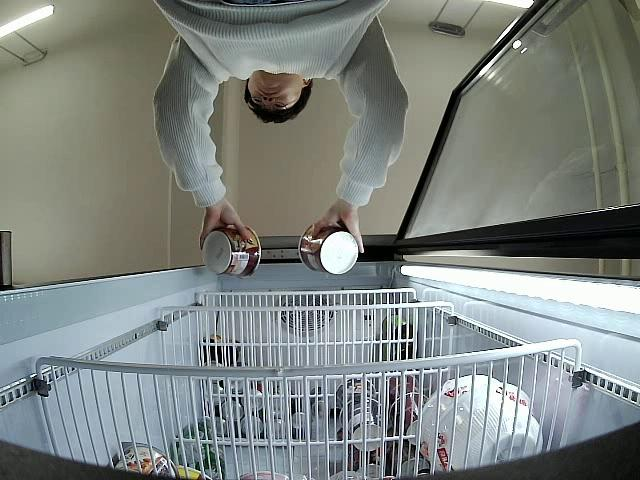00_hand: (310, 198, 364, 254), (199, 205, 253, 250)
05_nuguri_L: (201, 223, 261, 279), (299, 223, 359, 275)
